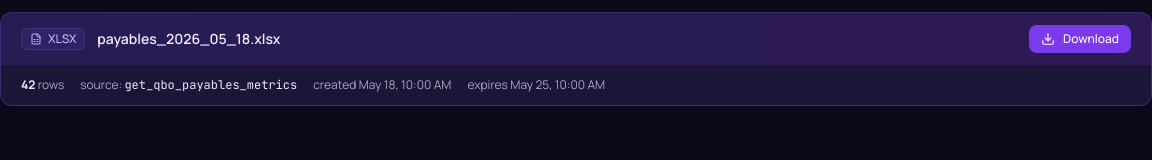
Test: FinanceExportArtifact error envelopes › unknown status falls back to generic message without leaking detail
The image size is (1152, 160).
Click the button with test id "finance-export-download".
click(1080, 39)  # box [1029,25,1131,53]
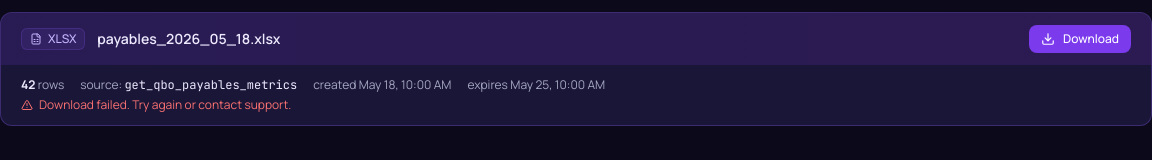
Expected: the element with test id "finance-export-error" is shown, [21,96,291,113]
